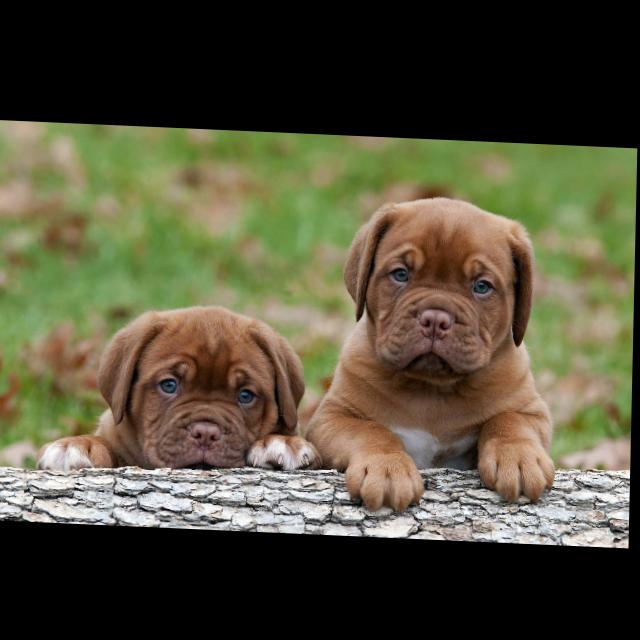dogue_de_bordeaux: (305, 187, 563, 515), (39, 298, 328, 482)
